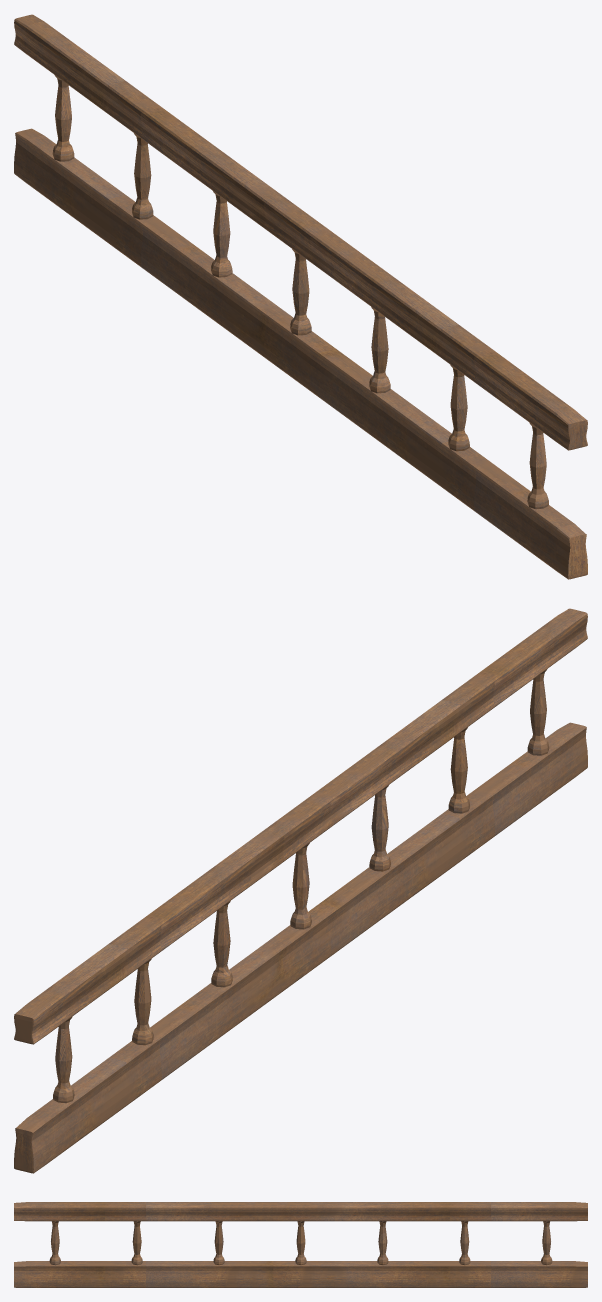
File: Handrail01.fbx
The picture shows the model from 3 angles, top to bottom: view 1: azimuth 30°, elevation 25°; view 2: azimuth 150°, elevation 25°; view 3: azimuth 270°, elevation 25°; orthographic projection. The views are drawn at different scales.
Parts seen in each view (by area): view 1: Handrail01; view 2: Handrail01; view 3: Handrail01.
Part boxes in pixels (x1=…): Handrail01: x1=14, y1=14, x2=587, y2=579; Handrail01: x1=14, y1=608, x2=587, y2=1173; Handrail01: x1=14, y1=1202, x2=587, y2=1287.
Bounding box in the file's own units: 15.15 × 110 × 701.
